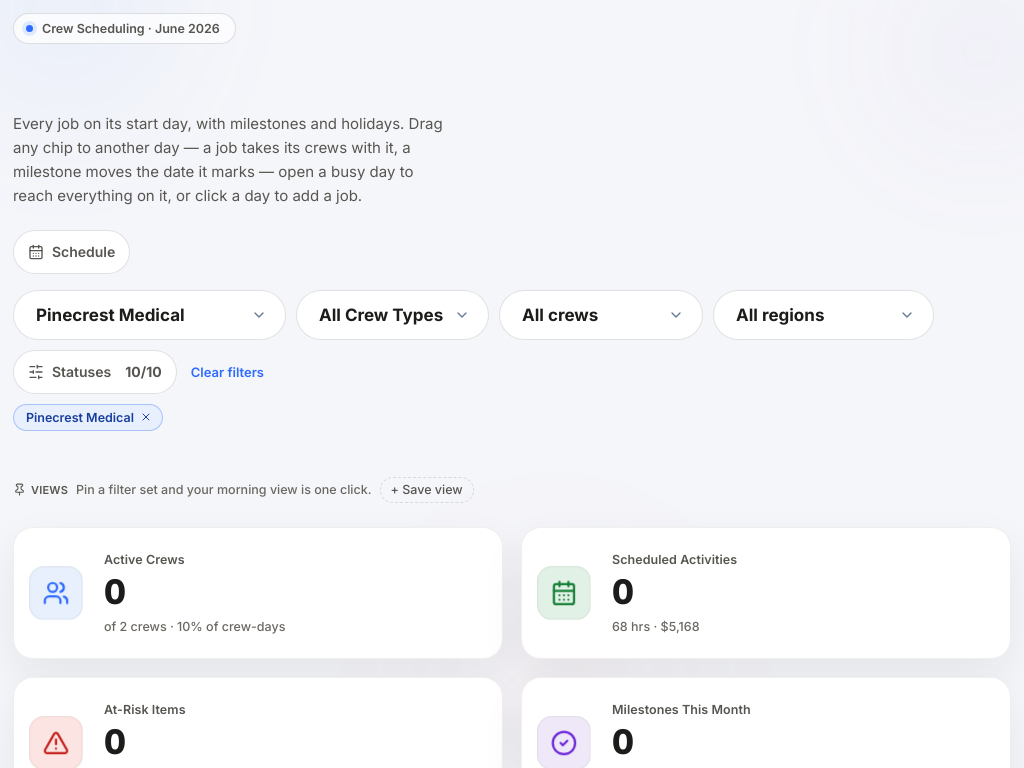
Test: Saved views › saves the filters on screen under a name, shows the pin, and applies it again on one click
Click the button "+ Save view".
click(427, 490)  # box 380,477 -> 474,503
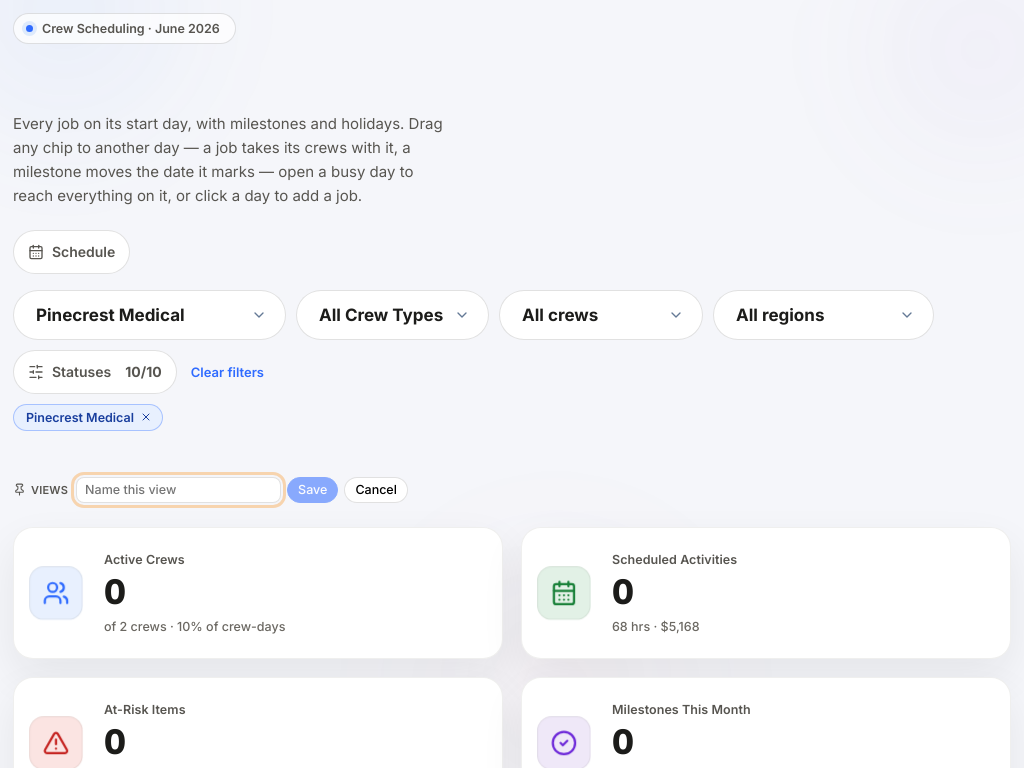
Type "Pinecrest crews" into the field labelled "View name".
click(179, 490); type("Pinecrest crews")  # box 76,477 -> 281,503
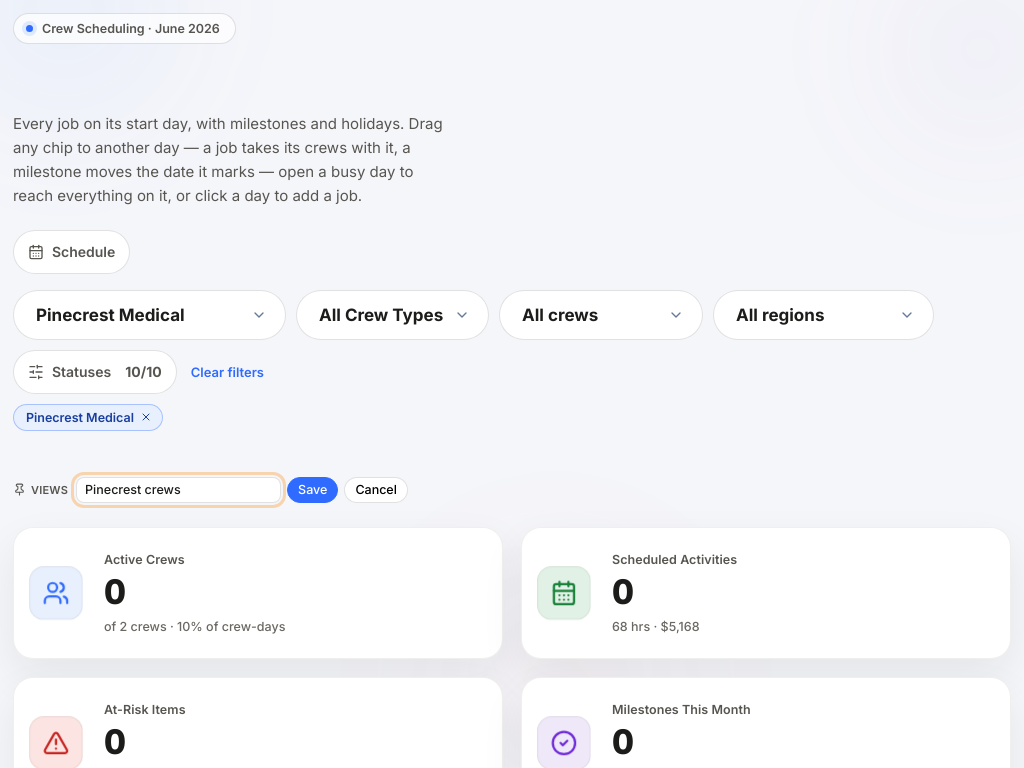
Click the button "Save".
click(313, 490)  # box 287,477 -> 338,503
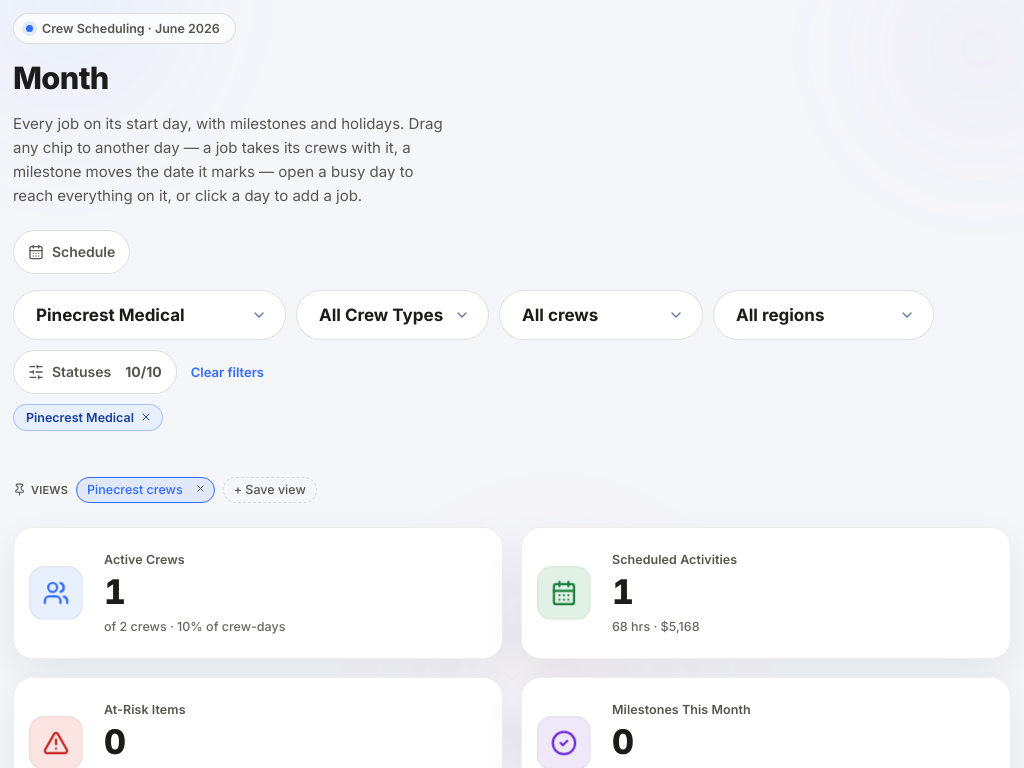
Click the button "Clear filters".
click(227, 372)  # box 187,358 -> 268,386
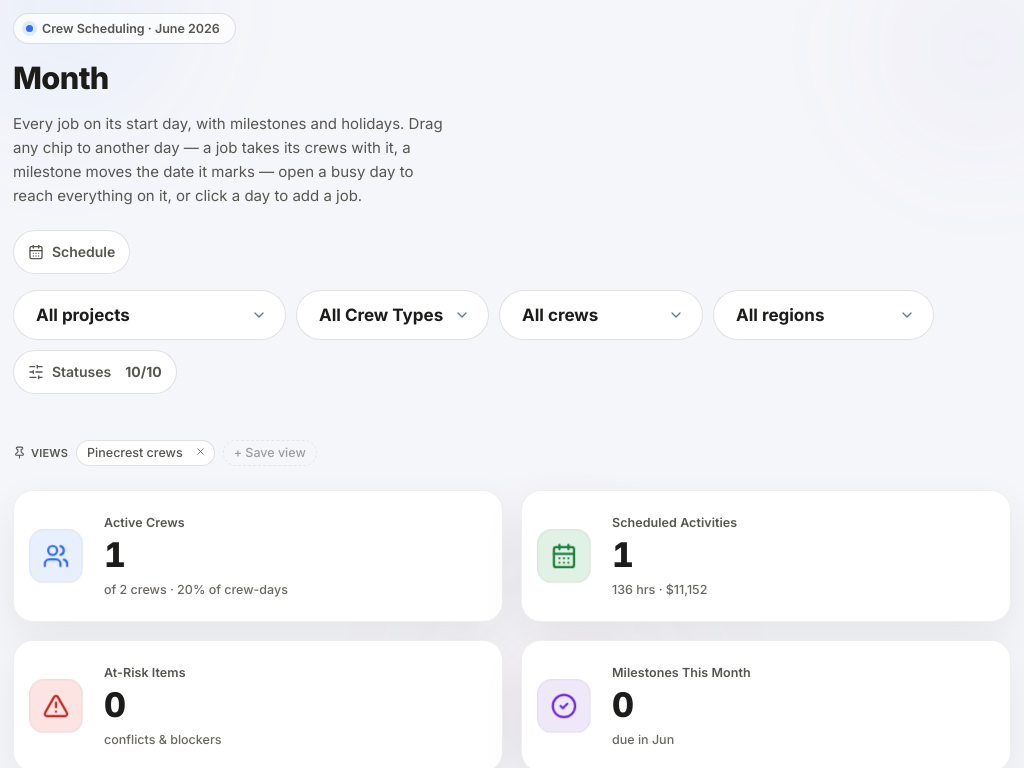
Click the button "Pinecrest crews".
click(135, 453)  # box 77,441 -> 193,465
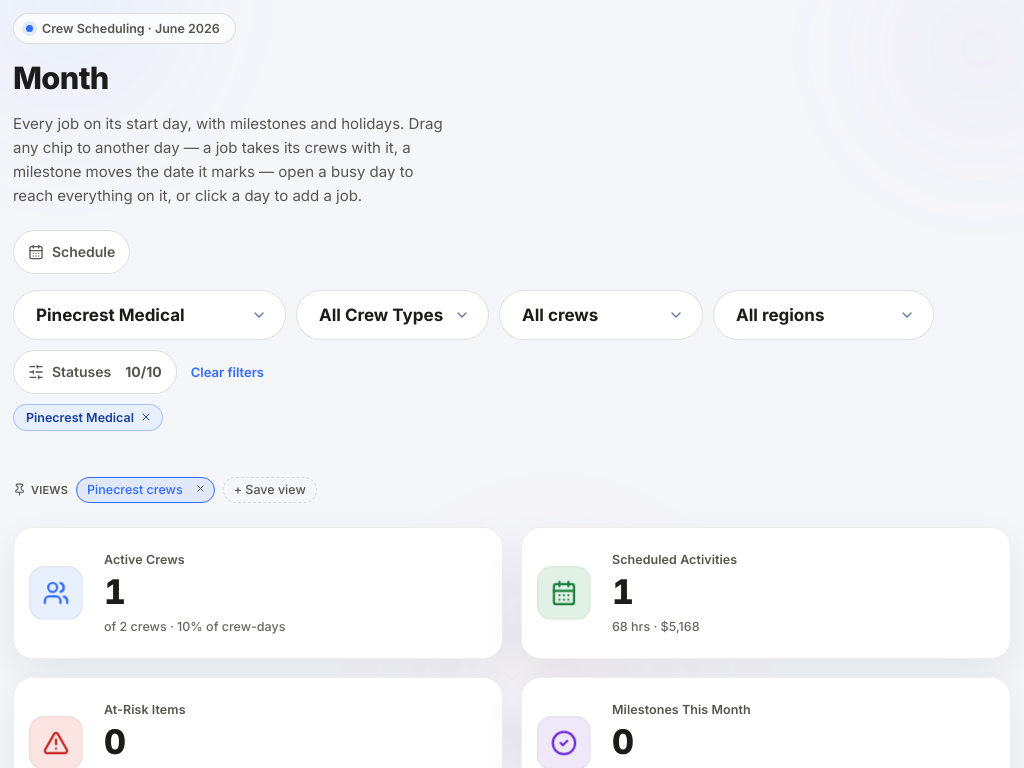
Click the button named "Remove saved view Pinecrest crews".
click(203, 490)  # box 193,478 -> 214,502
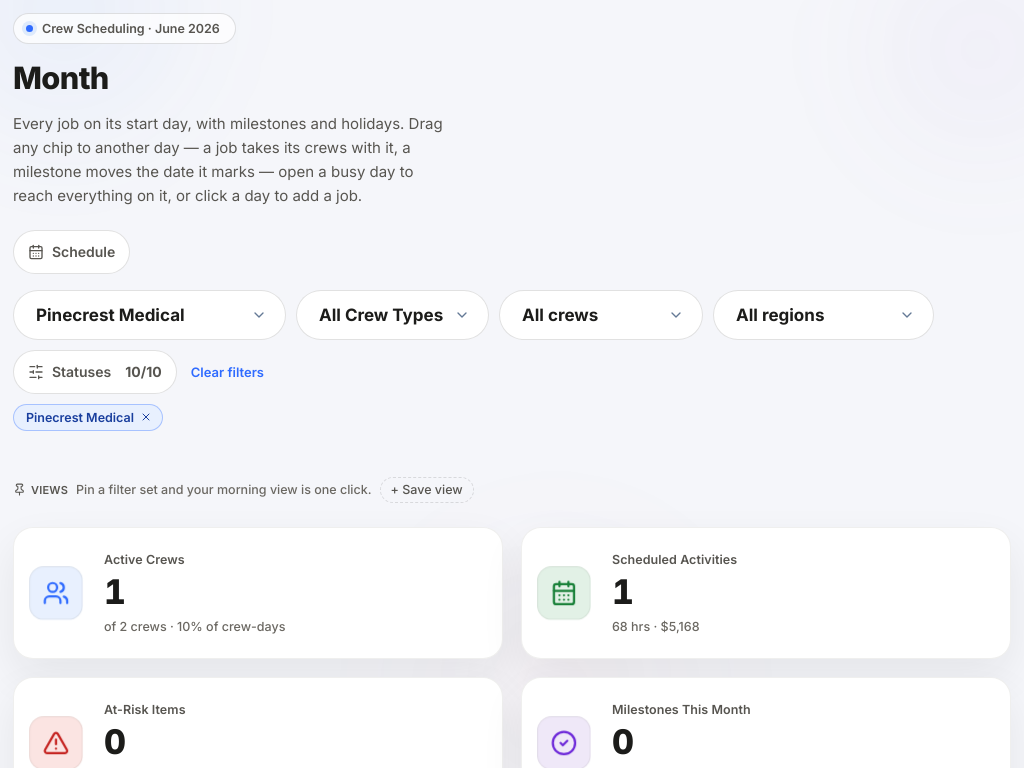
expect the button "Pinecrest crews" is gone: met
